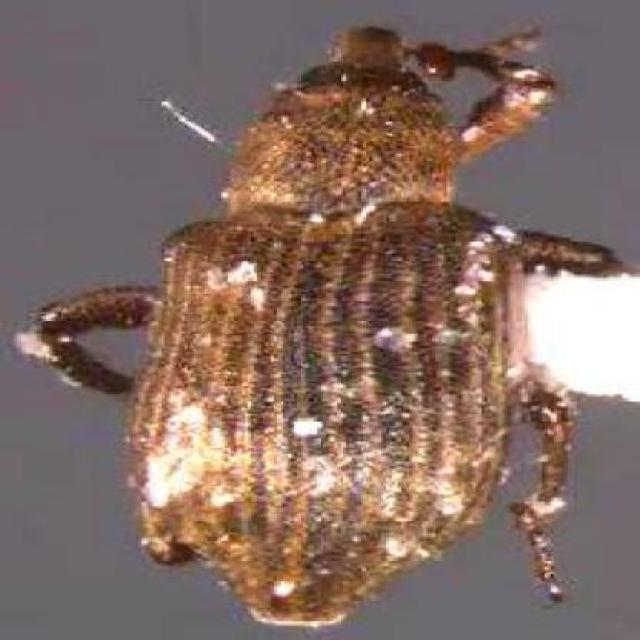rice-bug: (25, 26, 623, 628)
